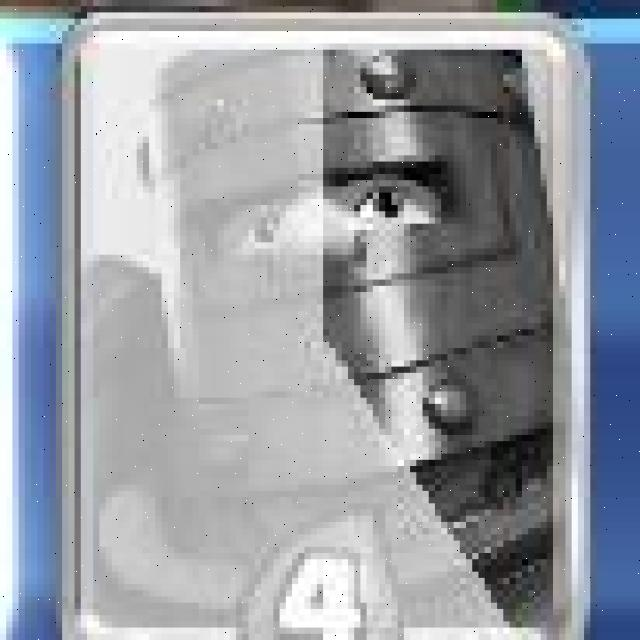Dark_Prince: (55, 2, 594, 640)
